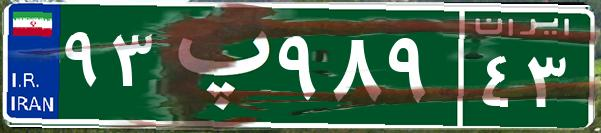3: (110, 28, 158, 105), (525, 38, 570, 115)
4: (475, 38, 525, 113)
8: (330, 28, 385, 110)
9: (385, 28, 445, 110), (273, 28, 330, 110), (57, 26, 110, 107)
پ: (158, 15, 273, 115)
